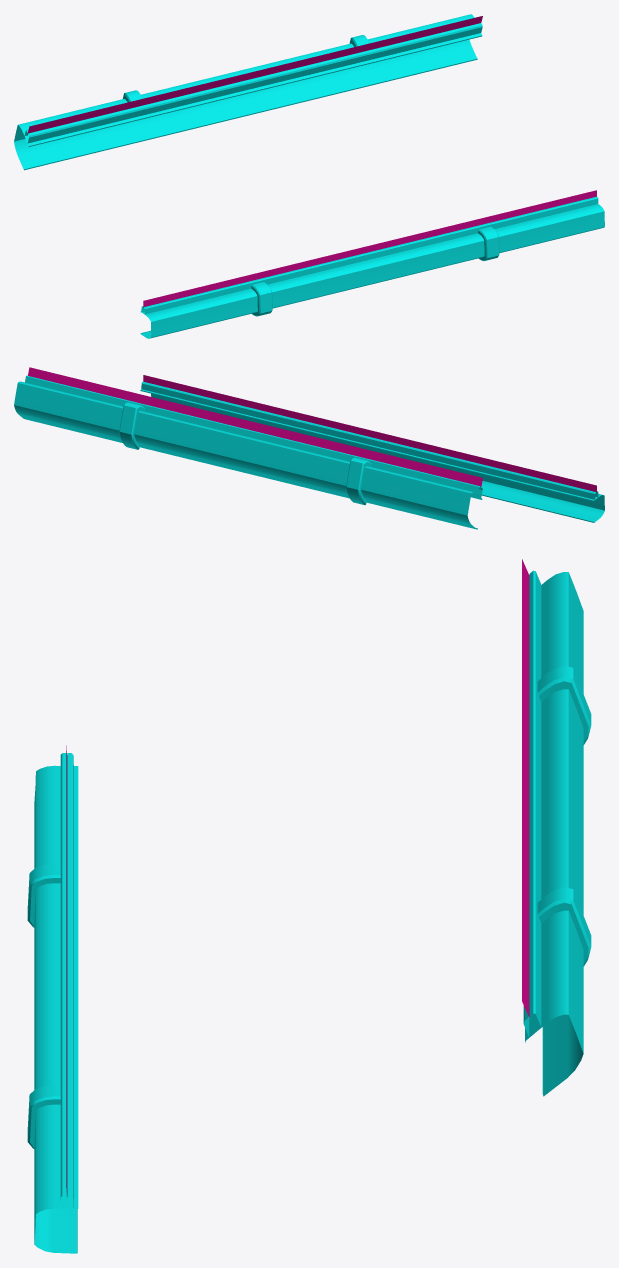
Rendered from Mur_D_C.fbx.
3 views of the same model, one above another, from view 1: azimuth 30°, elevation 25°; view 2: azimuth 150°, elevation 25°; view 3: azimuth 270°, elevation 25° (orthographic). The views are drawn at different scales.
Visible parts, largest first — view 1: polySurface939; view 2: polySurface939; view 3: polySurface939.
Part boxes in pixels (x1=…): polySurface939: x1=14, y1=14, x2=604, y2=338; polySurface939: x1=14, y1=367, x2=604, y2=529; polySurface939: x1=27, y1=559, x2=591, y2=1253.
Bounding box in the file's own units: 30 × 8.2 × 16.14.
